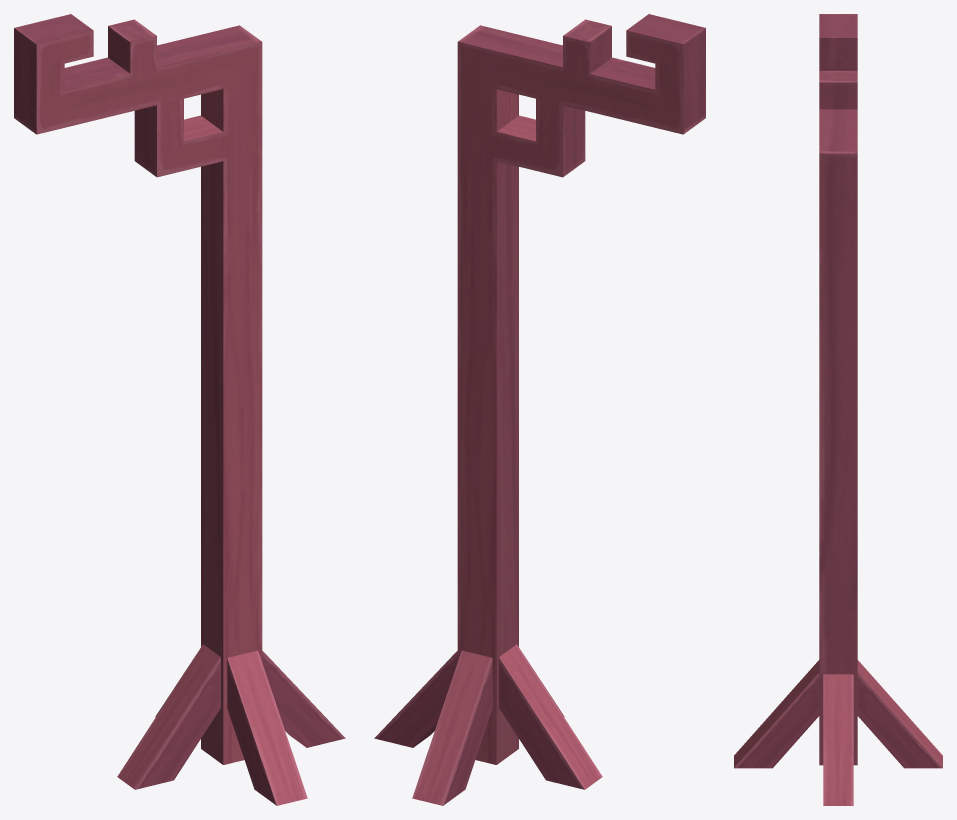
3 views of the same model, side by side, from view 1: azimuth 30°, elevation 25°; view 2: azimuth 150°, elevation 25°; view 3: azimuth 270°, elevation 25° (orthographic). The views are drawn at different scales.
Parts seen in each view (by area): view 1: wk_s_16; view 2: wk_s_16; view 3: wk_s_16.
Boxes of the visible parts, x1,y1,x2,y2 form: wk_s_16: [14, 14, 345, 805]; wk_s_16: [374, 14, 705, 805]; wk_s_16: [734, 14, 942, 805].
Size of the model in its own units: 1.37 by 0.9259 by 3.24.
1 material, 1 textured.
